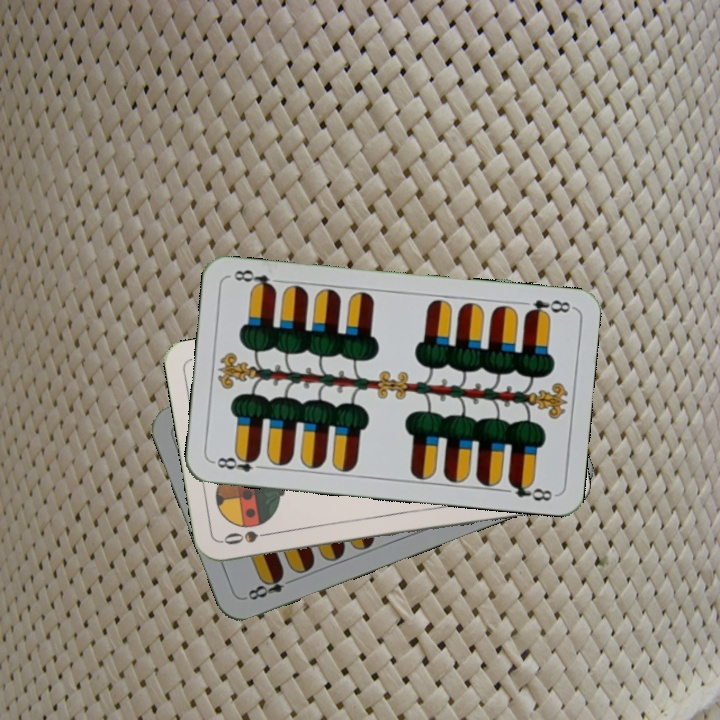E8: (244, 569, 298, 603), (209, 450, 268, 475), (521, 295, 575, 320)
SO: (219, 526, 278, 548)
